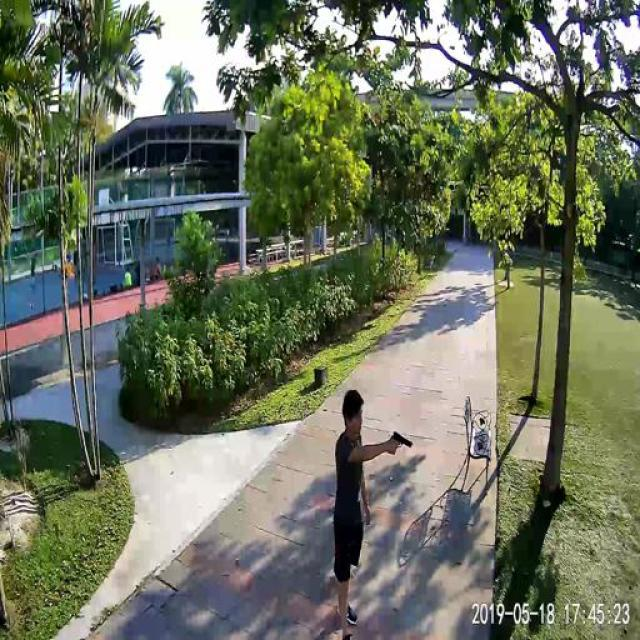Gun: (383, 420, 419, 462)
